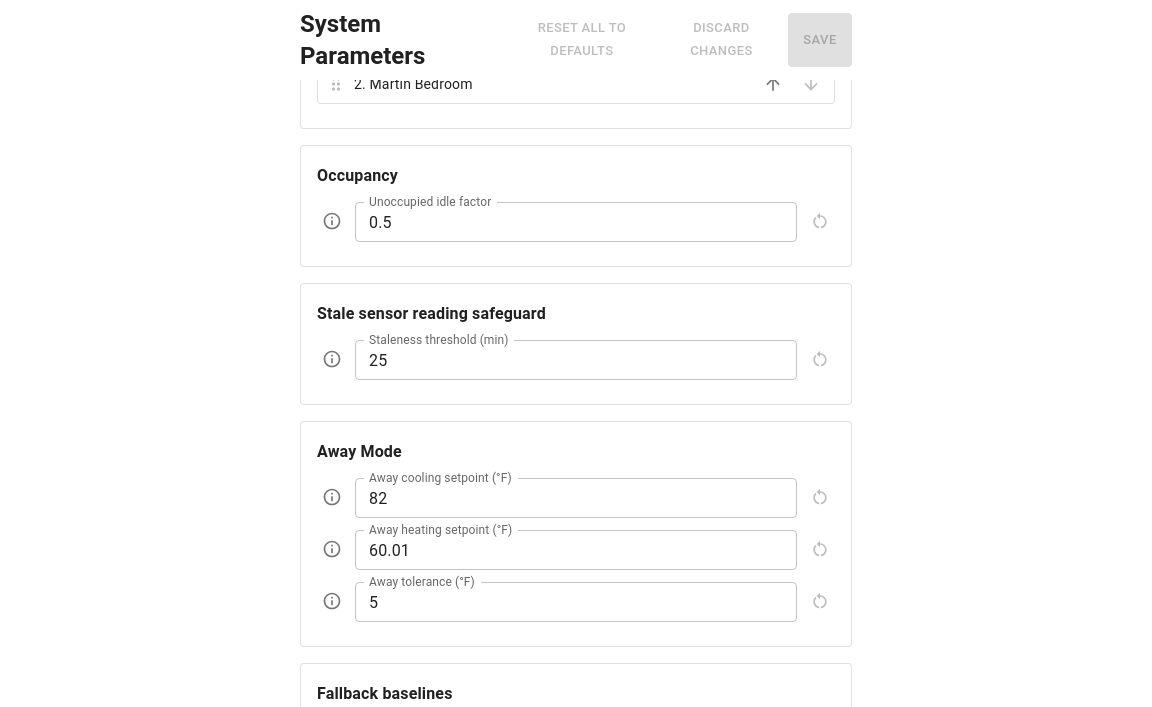
Test: SystemParametersPage › shows the server's own warnings after a save
(page scrolled)
Replace the text in the number field labelled "Staleness threshold (min)" with "20" at (576, 360), box x1=355 y1=340 x2=797 y2=380
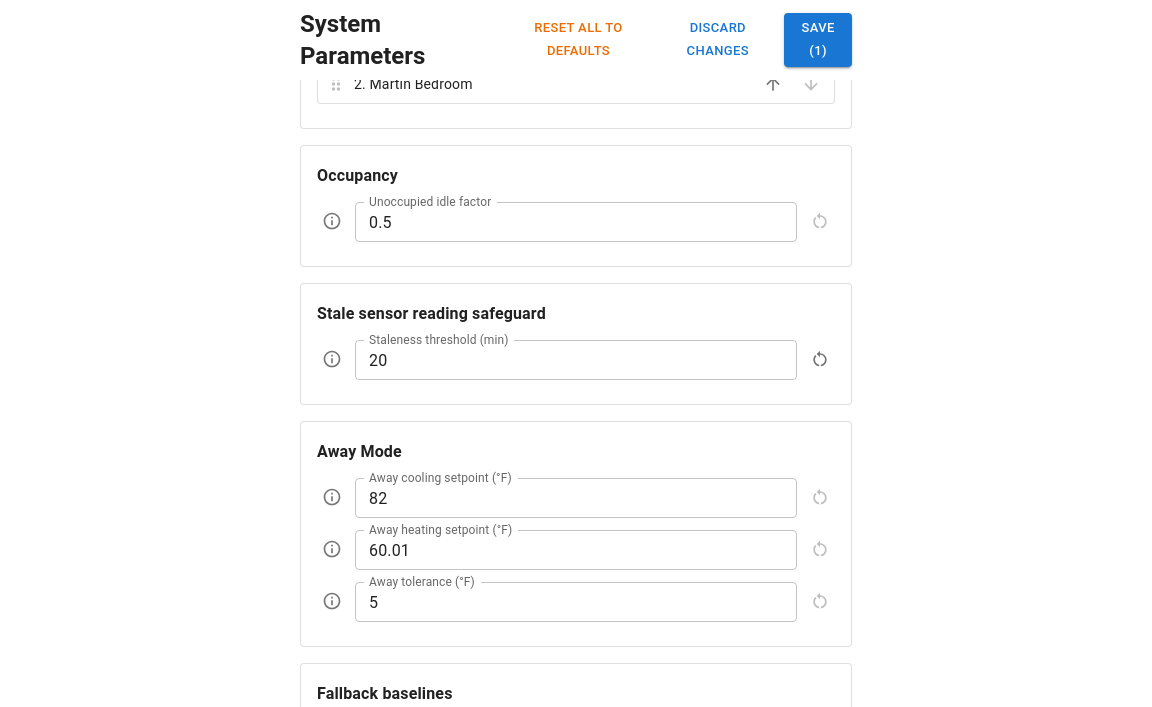
Click the button "Save (1)".
click(818, 40)  # box x1=784 y1=13 x2=852 y2=67
(page scrolled)
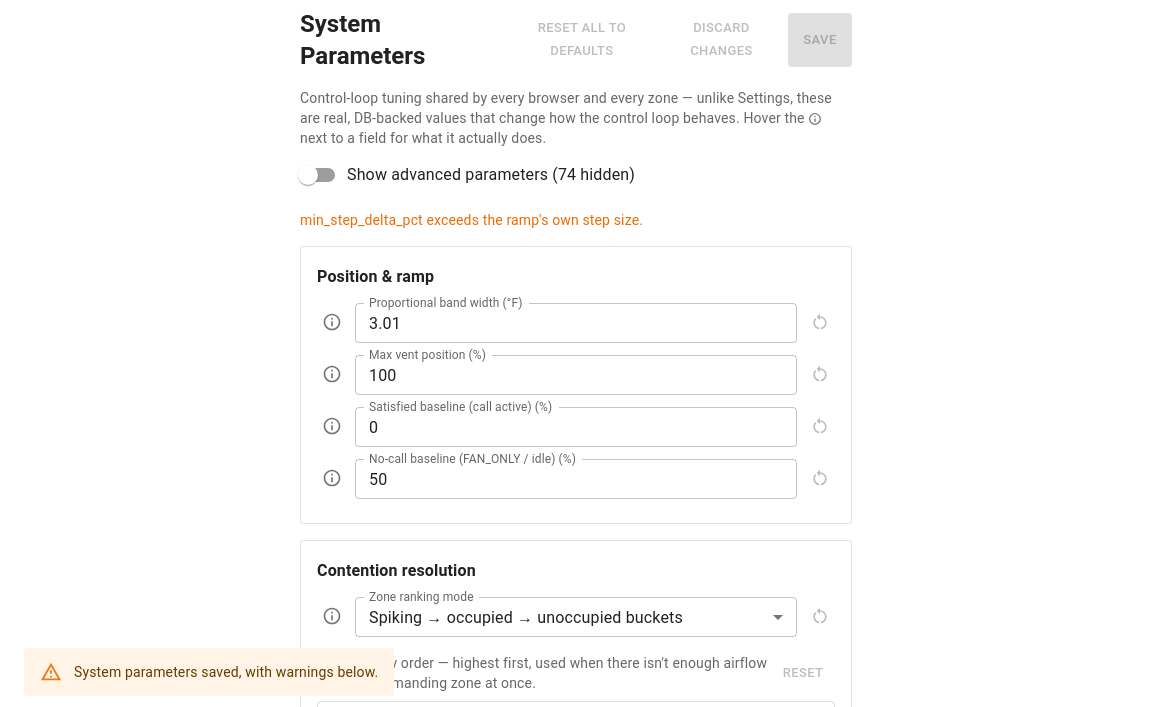
Check: the text "min_step_delta_pct exceeds the ramp's own step size." is shown, box x1=300 y1=212 x2=643 y2=228
